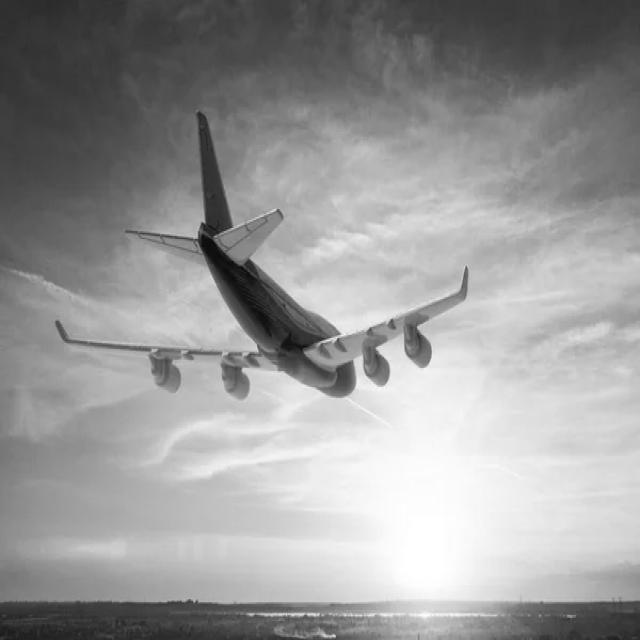Aircraft: (49, 97, 477, 405)
